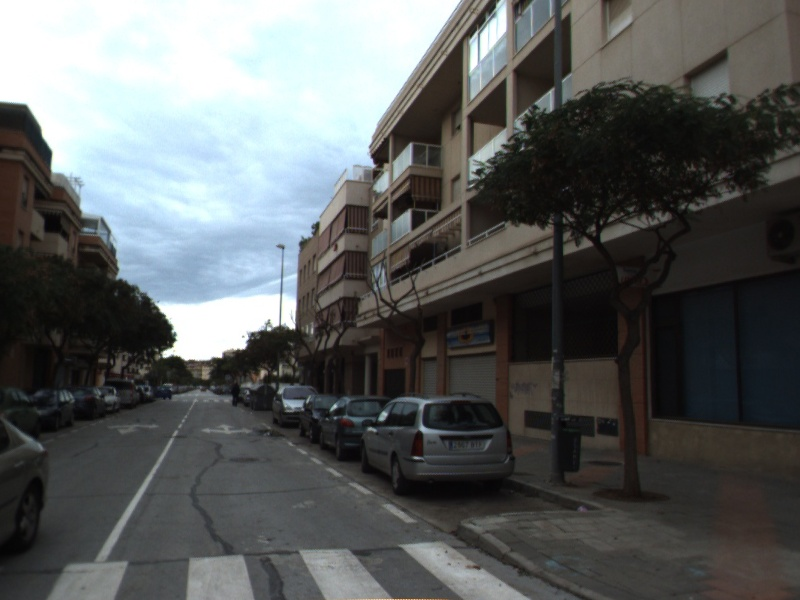STRAIGHT_LEFT_RIGHT: (199, 422, 255, 436)
